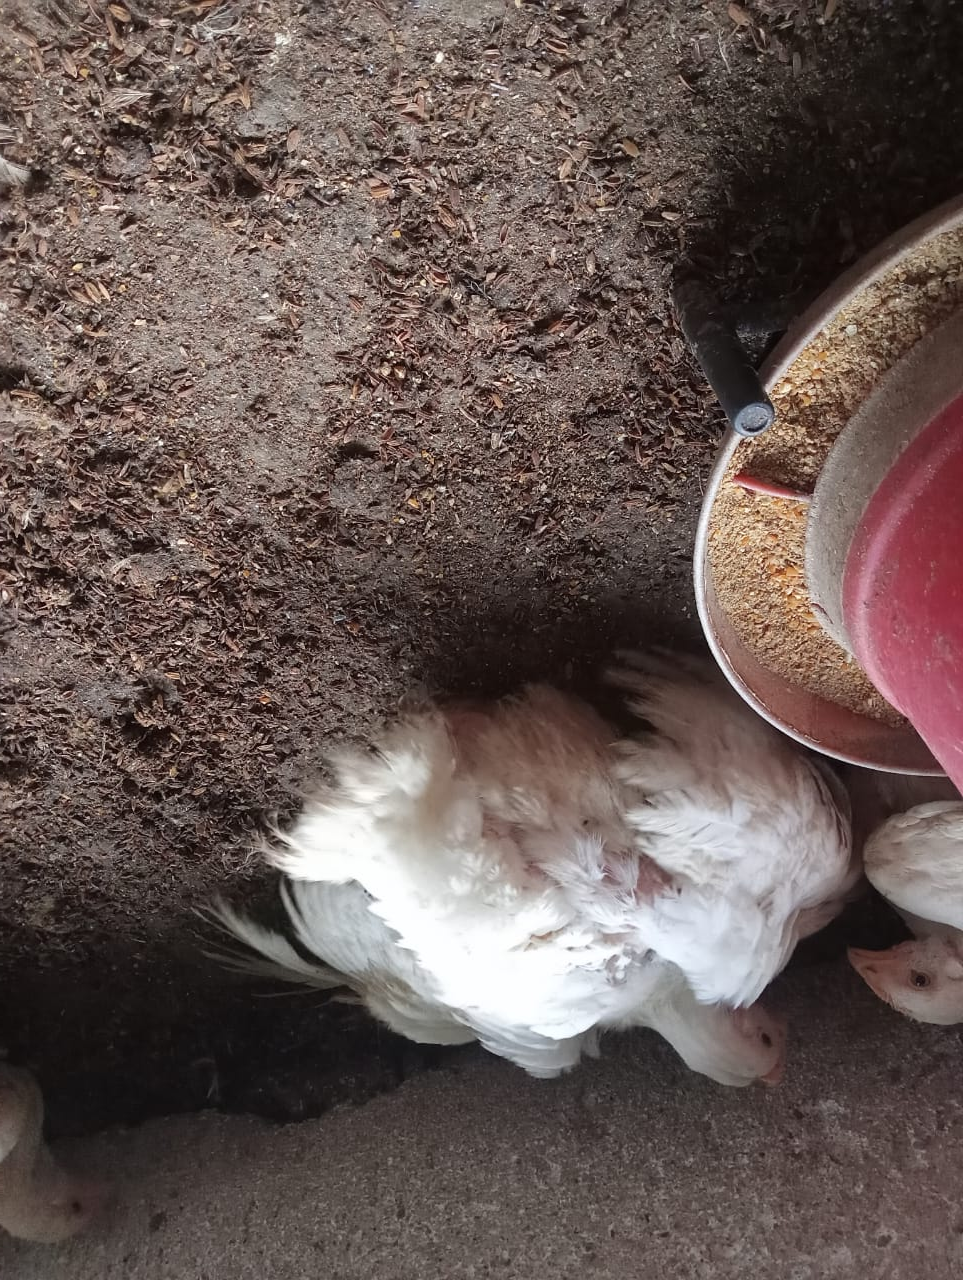Unhealthy: (187, 611, 846, 1127)
